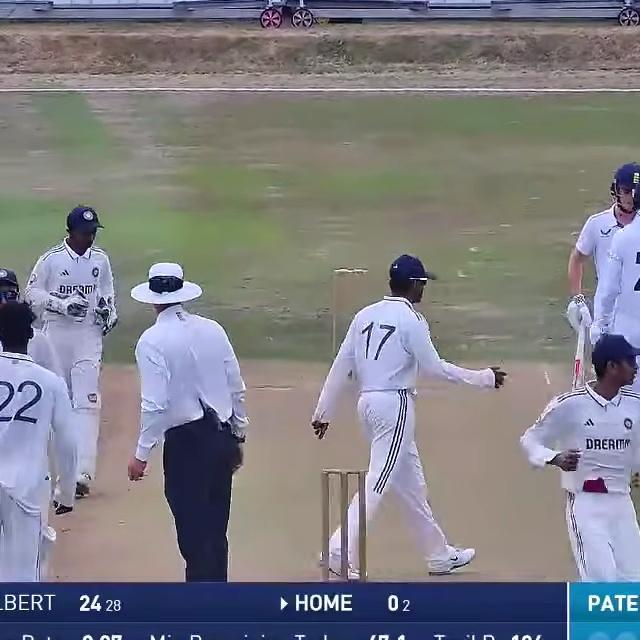umpire: (125, 255, 252, 584)
